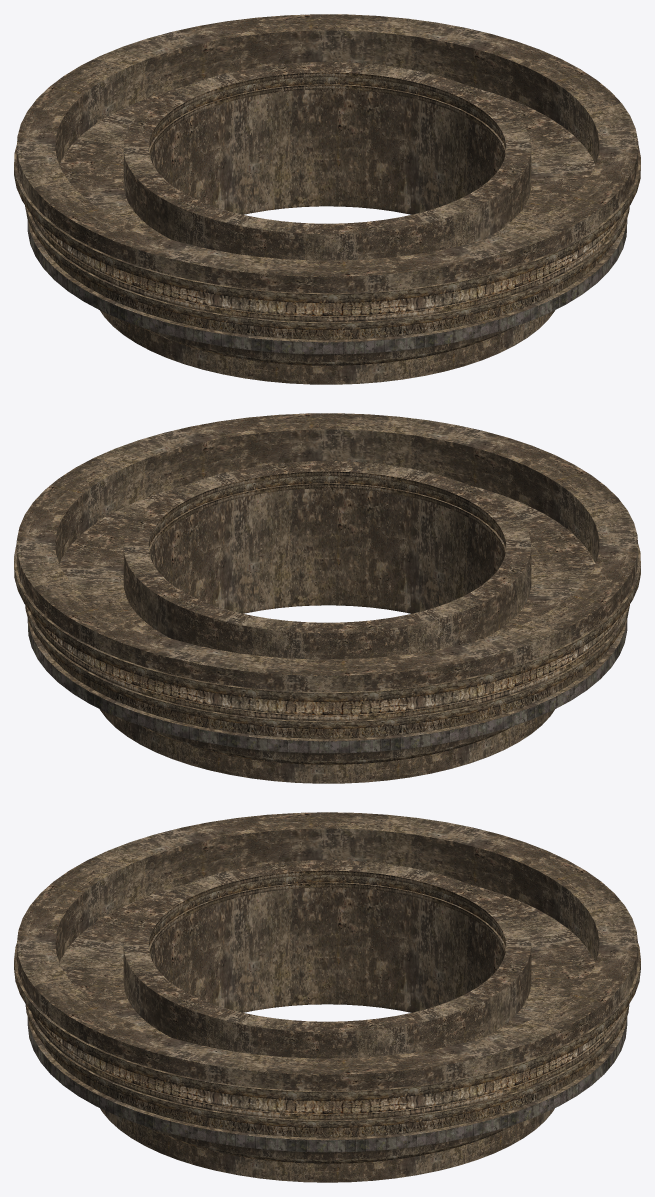
Rendered from materials_5_floor_donut_6.fbx.
3 views of the same model, one above another, from view 1: azimuth 30°, elevation 25°; view 2: azimuth 150°, elevation 25°; view 3: azimuth 270°, elevation 25° (orthographic).
Parts seen in each view (by area): view 1: materials_5_floor_donut_6; view 2: materials_5_floor_donut_6; view 3: materials_5_floor_donut_6.
Part boxes in pixels (left/top/right/bottom): materials_5_floor_donut_6: left=14, top=14, right=640, bottom=384; materials_5_floor_donut_6: left=14, top=413, right=640, bottom=783; materials_5_floor_donut_6: left=14, top=812, right=640, bottom=1182.
Size of the model in its own units: 572 by 141 by 572.
